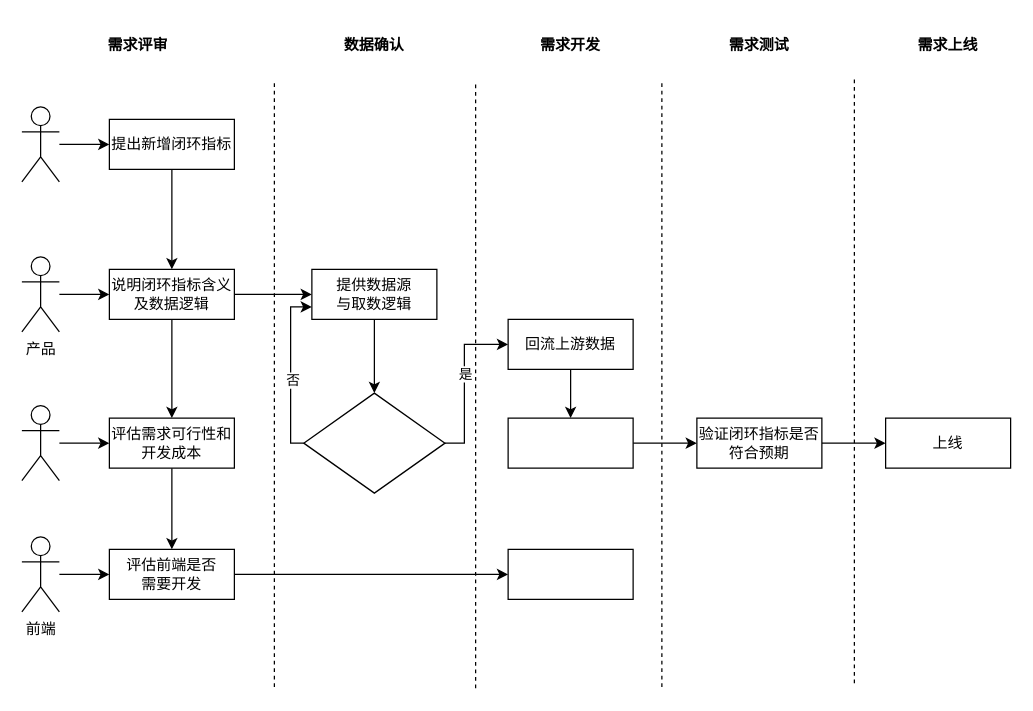
This 1033x711 diagram has some shape labels left out. Here are the shapes that lost their labels. From the top down, the box of each, then its label:
(21, 106, 59, 182): 运营
(21, 404, 59, 481): 后端
(302, 392, 445, 493): 确认数据源 是否可用
(507, 417, 633, 468): 新增闭环指标
(507, 548, 633, 599): 新增无极配置
